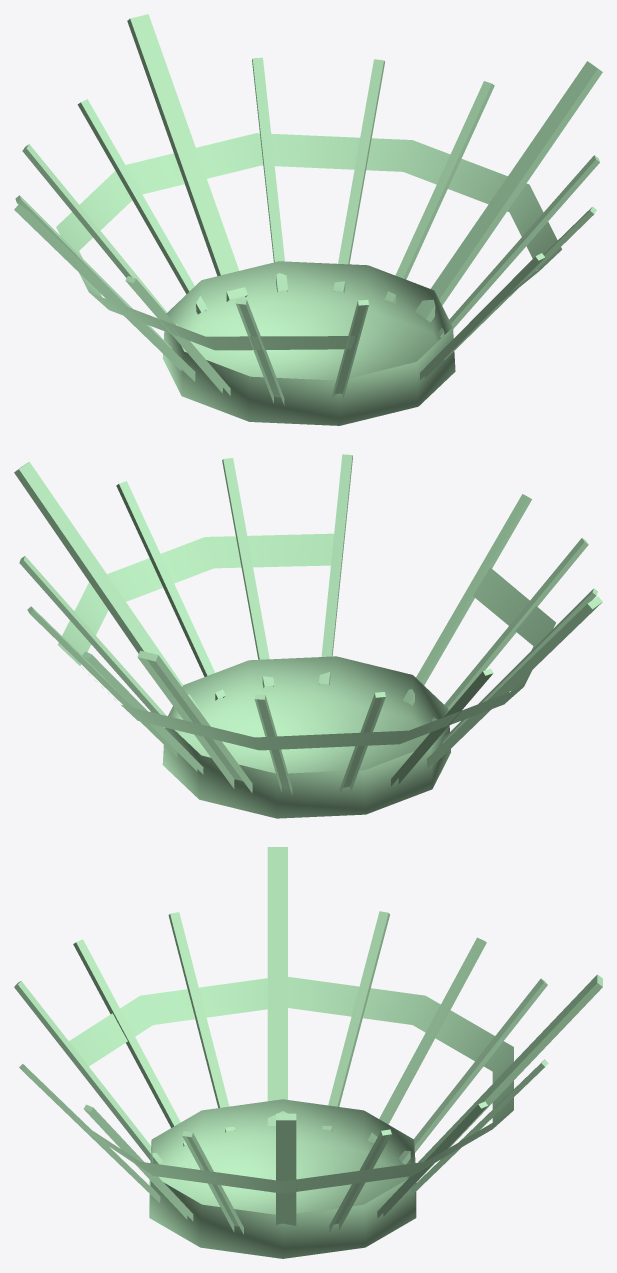
3 renders of one model, top to bottom at view 1: azimuth 30°, elevation 25°; view 2: azimuth 150°, elevation 25°; view 3: azimuth 270°, elevation 25°, orthographic. The views are drawn at different scales.
Visible parts, largest first — view 1: Object14; view 2: Object14; view 3: Object14.
Boxes of the visible parts, x1,y1,x2,y2 form: Object14: (14,14,602,425); Object14: (14,454,602,818); Object14: (14,847,602,1258).
Bounding box in the file's own units: 284 × 107 × 260.
